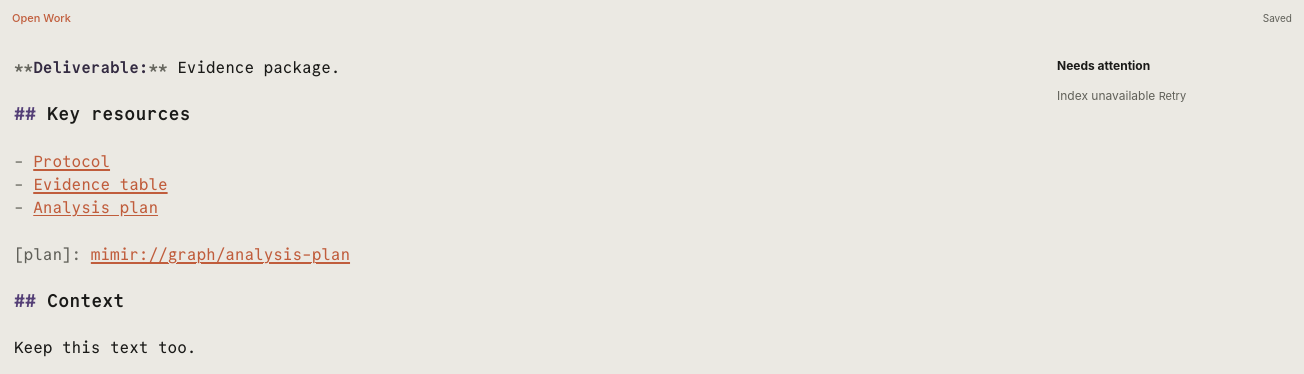
Test case: Project home › shows loading failures with Retry and keeps the authored page visible
The image size is (1304, 374).
Expected: the field with class "cm-content" shows "Evidence table", top-left (14, 59), bottom-right (350, 356)
Click the button "Retry". click: (1172, 97)
box: top-left (1159, 88), bottom-right (1186, 106)
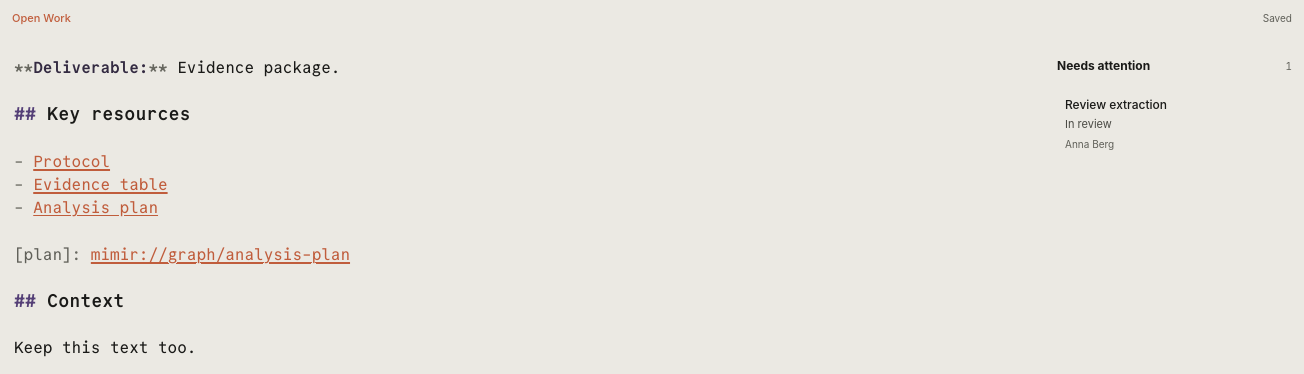
Expected: the button "Review extraction In review Anna Berg" is shown, top-left (1057, 86), bottom-right (1292, 162)
